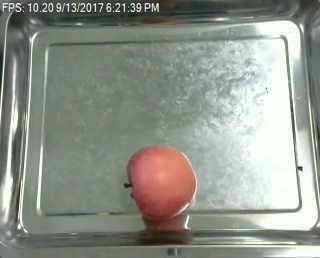Apple: (126, 142, 197, 225)
